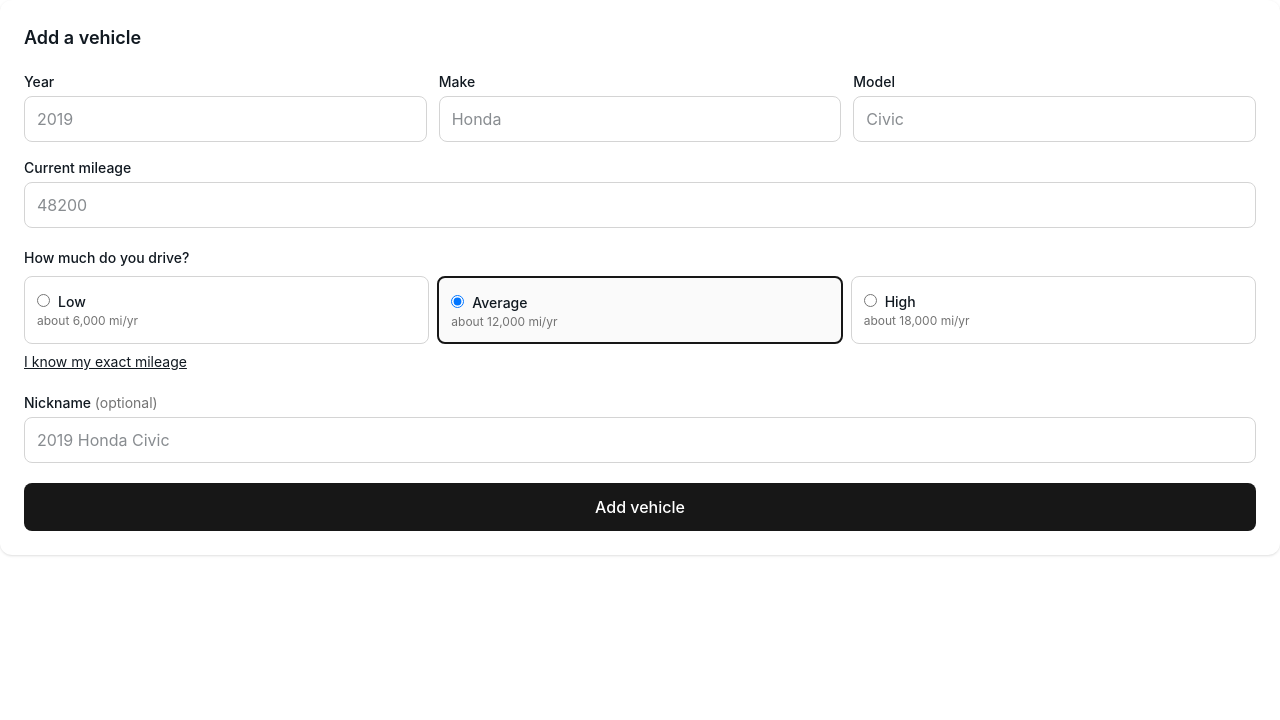
AddVehicleForm › rejects an impossible year
Step 1. Type "219" into the field labelled "Year" → (225, 119), box [24,96,427,142]
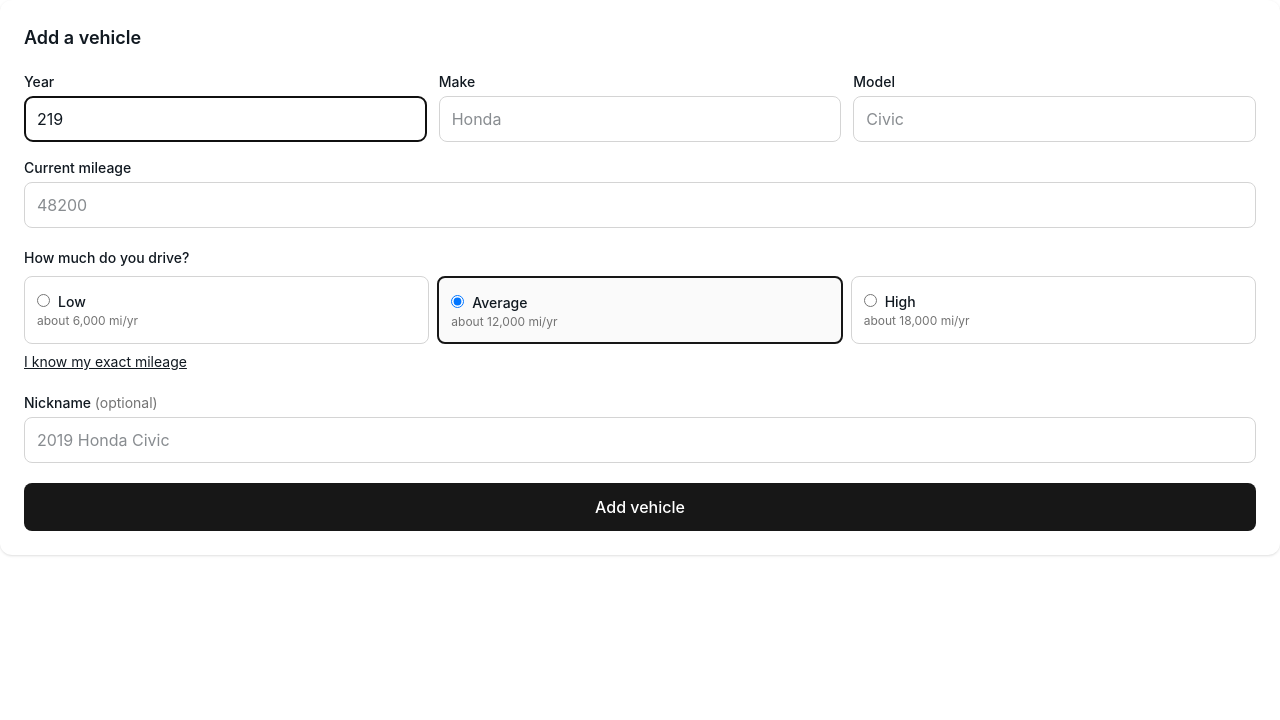
Step 2. Click the button "Add vehicle" → click(640, 507), box [24,483,1256,531]
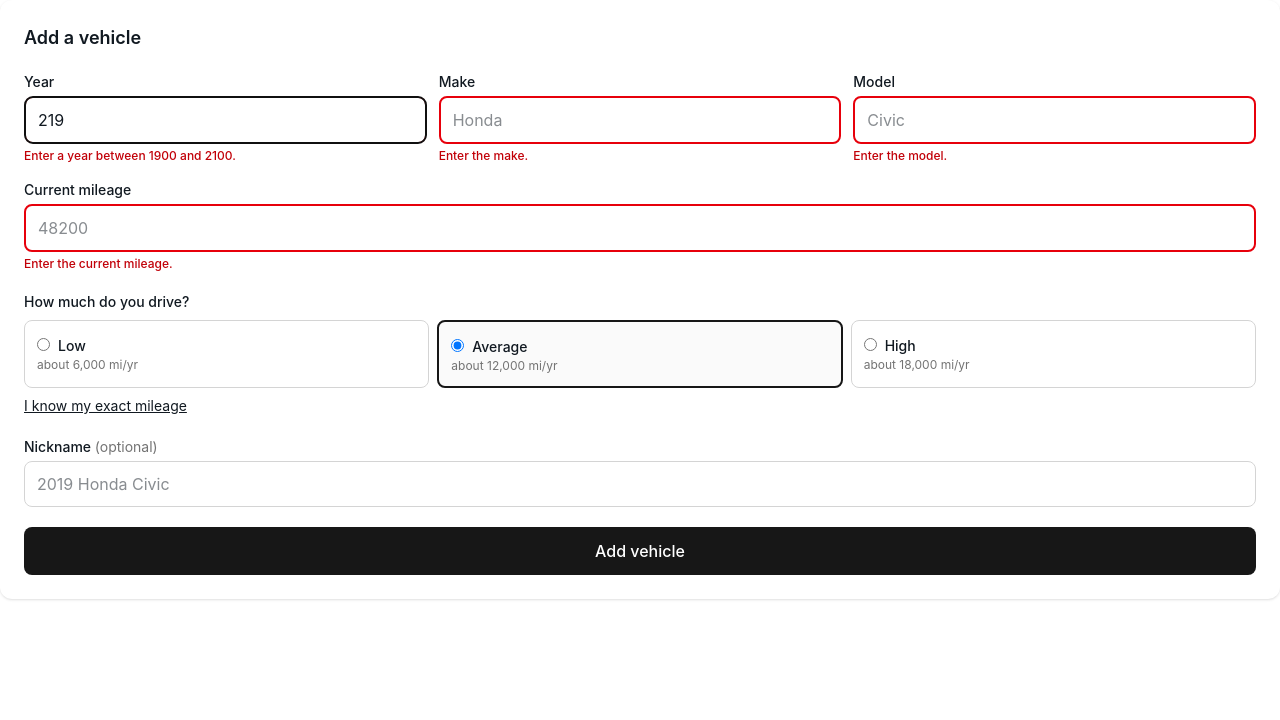
Expected: the text "Enter a year between 1900 and 2100." is shown, [24,148,236,163]
